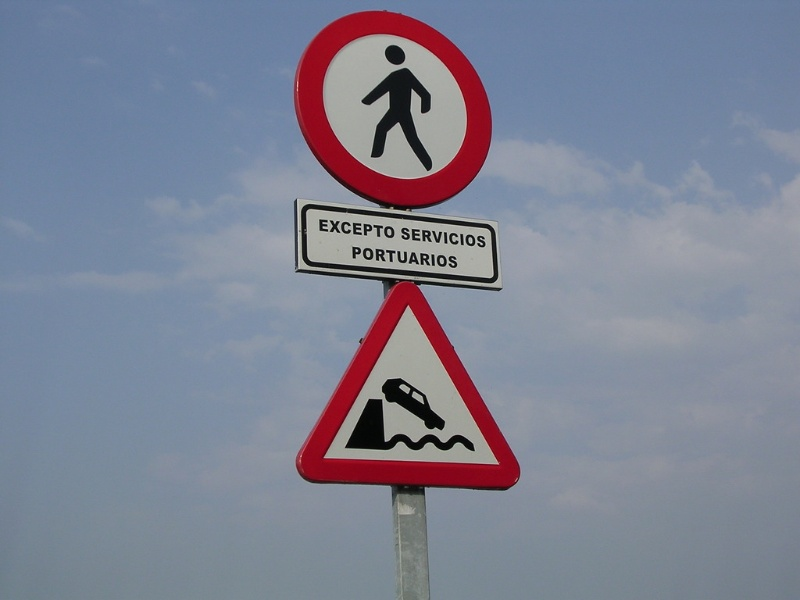cliff_edge: (275, 276, 533, 494)
pedestrian_crossing_ahead: (294, 6, 498, 214)
